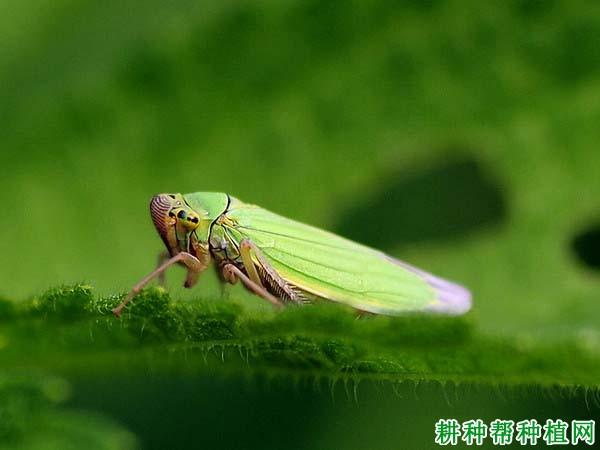Cicadellidae: (112, 186, 474, 325)
